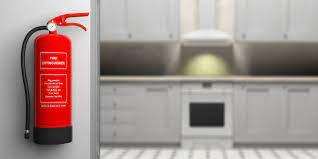Fire Extinguisher: (13, 4, 98, 149)
